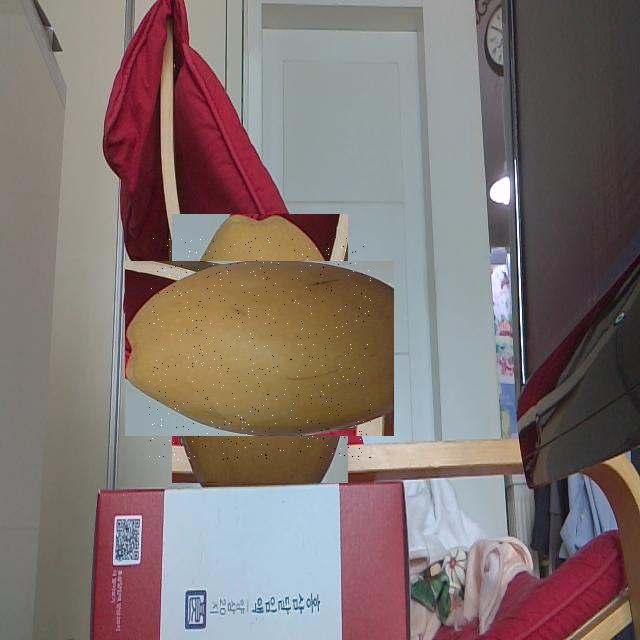pear: (149, 237, 371, 460)
